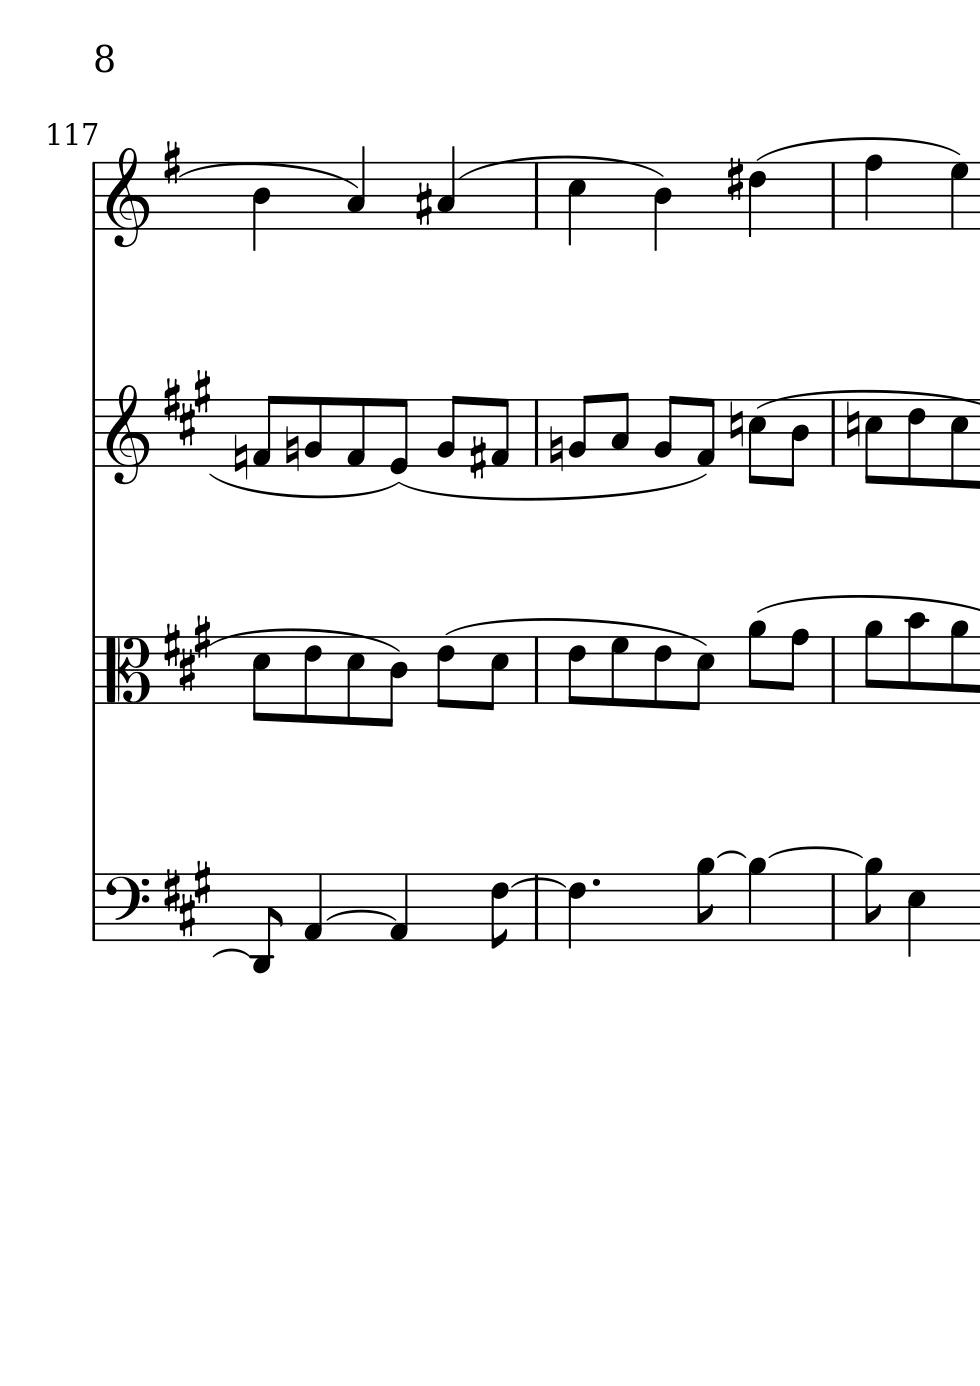1: (63, 121, 80, 150), (46, 121, 62, 150)
4_1: (301, 871, 323, 943)
4_3: (435, 144, 457, 229), (346, 145, 367, 230)
4_4: (651, 160, 673, 253), (250, 161, 272, 253)
4_5: (565, 161, 588, 248), (905, 871, 926, 959)
4_6: (746, 161, 767, 241), (566, 871, 587, 951)
4_7: (948, 161, 970, 231)
4_8: (862, 153, 883, 231)
4_9: (746, 856, 767, 943)
7: (81, 120, 99, 150)
8: (93, 41, 116, 74)
8_-3: (250, 872, 283, 973)
8_0: (387, 397, 410, 476)
8_1: (252, 394, 281, 468), (344, 396, 367, 469), (387, 872, 410, 944), (489, 397, 511, 469), (694, 397, 715, 470)
8_10: (903, 610, 928, 705)
8_2: (434, 393, 463, 467), (652, 393, 679, 468), (567, 393, 593, 468), (303, 394, 323, 467)
8_3: (609, 391, 630, 469)
8_4: (380, 635, 408, 730), (782, 399, 809, 489)
8_5: (482, 635, 509, 713), (688, 635, 715, 712), (947, 398, 968, 490), (344, 635, 364, 727), (746, 397, 766, 487), (863, 398, 883, 486), (251, 635, 272, 722)
8_6: (904, 399, 926, 488), (488, 871, 512, 951), (302, 636, 322, 725), (651, 636, 672, 710), (435, 635, 455, 710), (566, 635, 587, 707)
8_7: (608, 635, 630, 708)
8_8: (780, 628, 810, 706)
8_9: (946, 618, 969, 705), (862, 620, 885, 706), (862, 856, 883, 943), (746, 620, 767, 706), (694, 857, 715, 943)
A_S: (160, 859, 214, 938), (161, 368, 214, 448)
Cclef: (103, 634, 151, 705)
E_S: (160, 614, 212, 694)
Fclef: (104, 871, 150, 943)
Gclef: (104, 382, 151, 486), (104, 145, 150, 250)
Natural: (231, 432, 249, 480), (547, 424, 564, 473), (843, 401, 860, 450), (283, 425, 300, 473), (728, 398, 743, 449)
Sharp: (413, 180, 433, 228), (468, 434, 487, 481), (162, 141, 182, 186), (725, 155, 743, 201)
Single_barline: (527, 637, 545, 703), (85, 635, 102, 704), (85, 163, 102, 230), (824, 400, 841, 467), (824, 637, 841, 703), (825, 874, 842, 940), (528, 164, 545, 229), (86, 399, 102, 467), (528, 399, 544, 464), (825, 163, 841, 228), (528, 874, 544, 938), (86, 874, 101, 940)
Slur: (447, 617, 708, 649), (399, 474, 710, 501), (209, 472, 397, 501), (179, 161, 357, 189), (755, 136, 965, 159), (210, 627, 399, 651), (460, 155, 663, 177), (770, 846, 853, 860), (326, 907, 395, 922), (511, 872, 565, 890), (212, 948, 252, 959), (715, 850, 747, 861)
dot: (589, 875, 602, 889)
